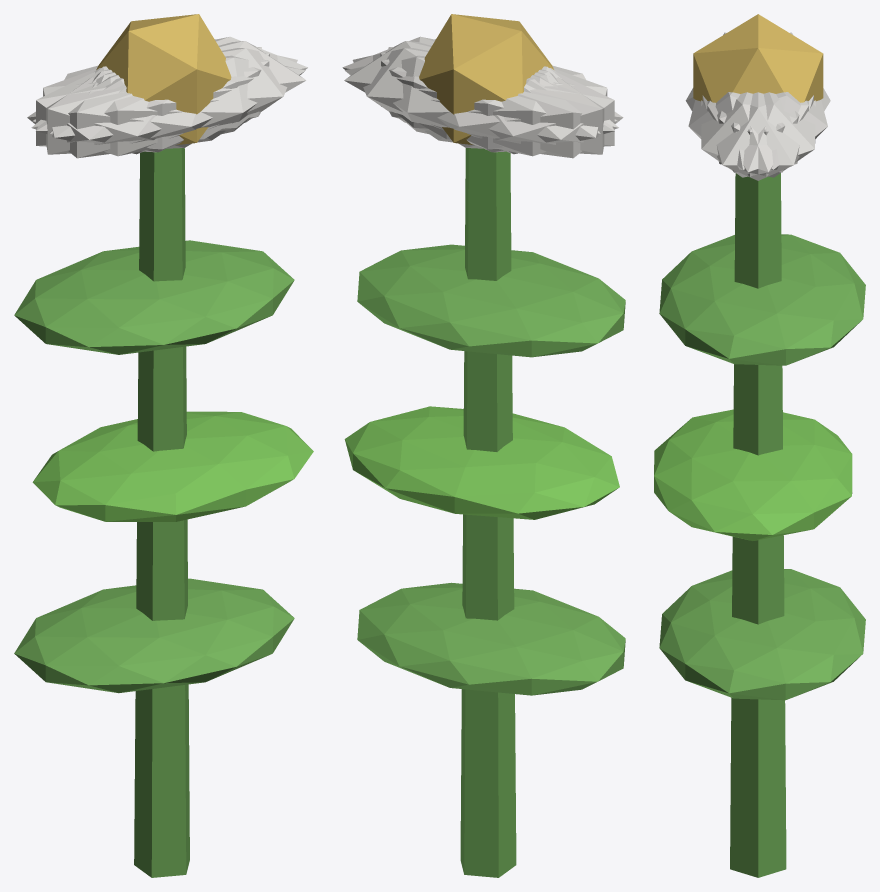
The model's file is barleria-repens.glb.
The picture shows the model from 3 angles, left to right: view 1: azimuth 30°, elevation 25°; view 2: azimuth 150°, elevation 25°; view 3: azimuth 270°, elevation 25°; orthographic projection.
Parts seen in each view (by area): view 1: stem, leaf2, leaf1, leaf0, center, petal1, petal6, petal2, petal5, petal7, petal0, petal4 (+2 smaller); view 2: stem, leaf2, leaf0, leaf1, center, petal8, petal3, petal7, petal4, petal2, petal0, petal5 (+2 smaller); view 3: stem, leaf2, leaf1, leaf0, center, petal0, petal4, petal5, petal1, petal8.
Boxes of the visible parts, x1,y1,x2,y2 form: stem: (134,148,189,877); leaf2: (14,240,294,354); leaf1: (32,411,313,521); leaf0: (14,578,294,693); center: (96,14,231,144); petal1: (31,55,305,156); petal6: (27,68,225,158); petal2: (46,47,261,154); petal5: (50,48,297,149); petal7: (36,52,269,152); petal0: (96,41,306,139); petal4: (33,36,307,131); stem: (460,148,516,877); leaf2: (357,244,625,357); leaf0: (357,582,625,695); leaf1: (344,406,619,519); center: (419,14,553,144); petal8: (345,55,618,156); petal3: (425,68,623,158); petal7: (388,47,604,154); petal4: (352,48,600,149); petal2: (380,52,614,152); petal0: (344,41,554,139); petal5: (342,36,617,131); stem: (730,173,786,877); leaf2: (659,234,865,365); leaf1: (654,409,852,540); leaf0: (659,569,865,700); center: (693,14,823,102); petal0: (702,92,813,180); petal4: (707,92,815,177); petal5: (701,92,808,177); petal1: (688,92,799,169); petal8: (717,92,827,169).
Size of the model in its own units: 0.1452 by 0.434 by 0.0999.
